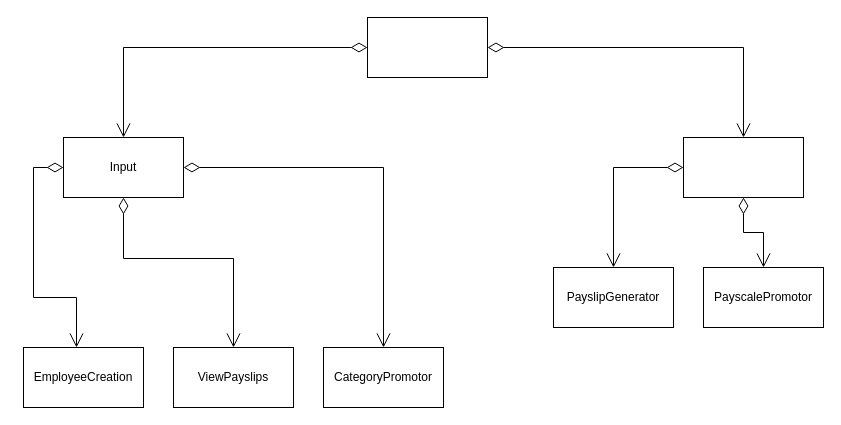
The diagram is 841 pixels wide and 425 high, and some of its shapes have lost their labels. The shapes that lost their labels are listed below. From the top down, each one's centre as x and y in pixels, then its label:
(427,47): Main
(743,167): ClockCheck
